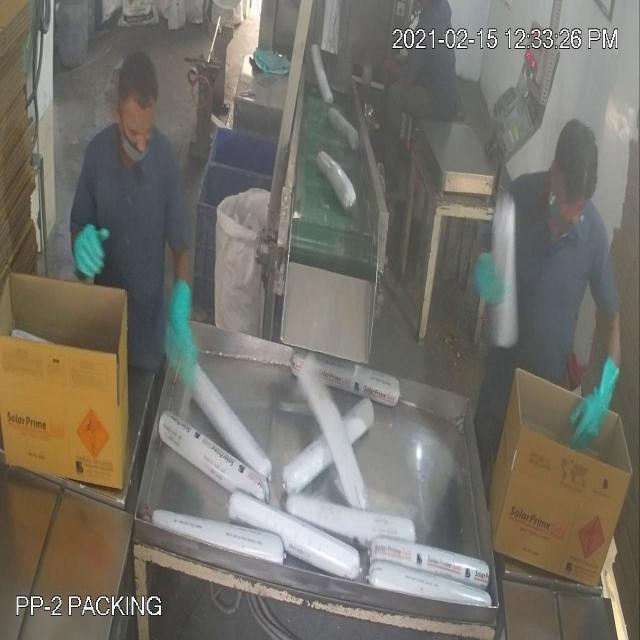Gloves: (44, 46, 598, 394)
